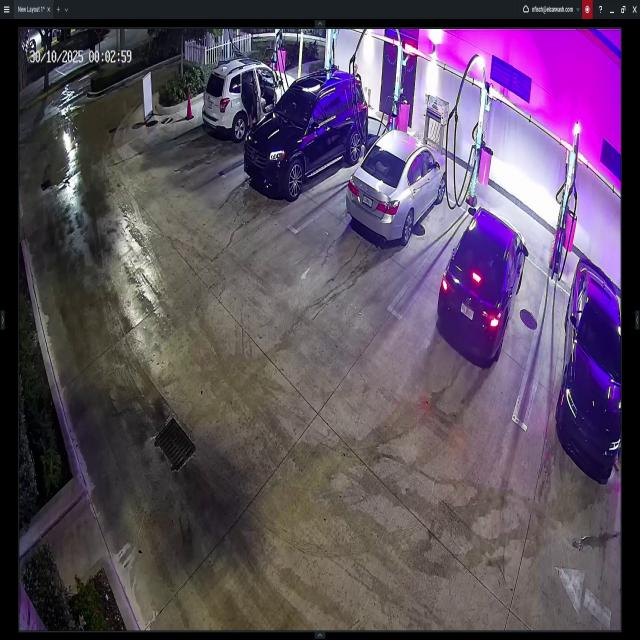Car: (246, 71, 367, 202), (554, 258, 620, 483), (439, 207, 527, 366), (346, 130, 447, 243), (202, 57, 297, 136)
